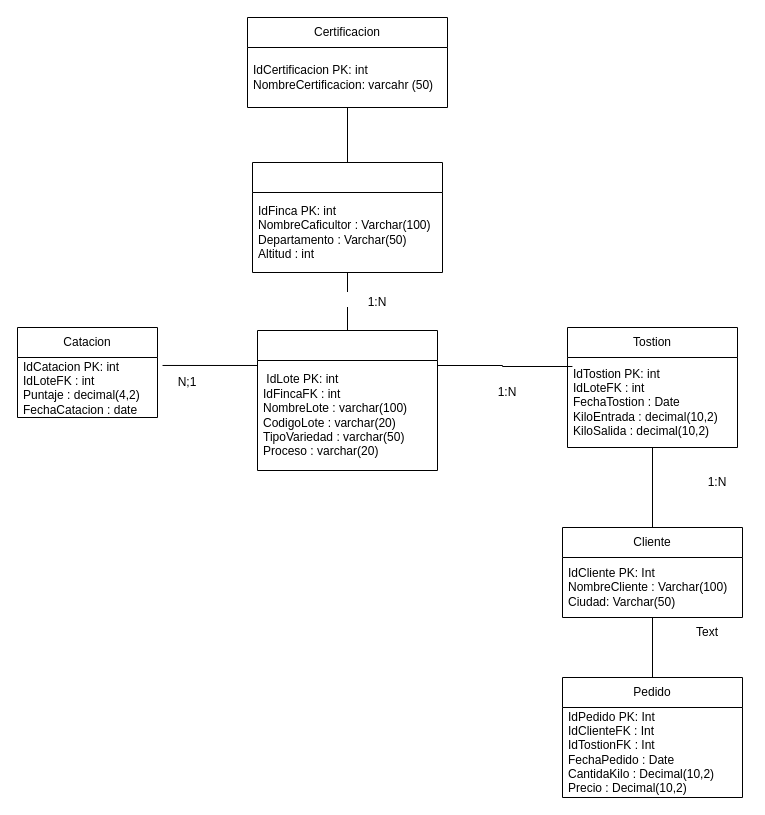
Image size: 765x815. Some labels were removed from this diagram. The box of each missing label's shape, as (x1, y1, x2, y2) in pixels:
FincaCaficultor: (252, 162, 442, 272)
LoteCafeCosecha: (256, 330, 438, 470)
